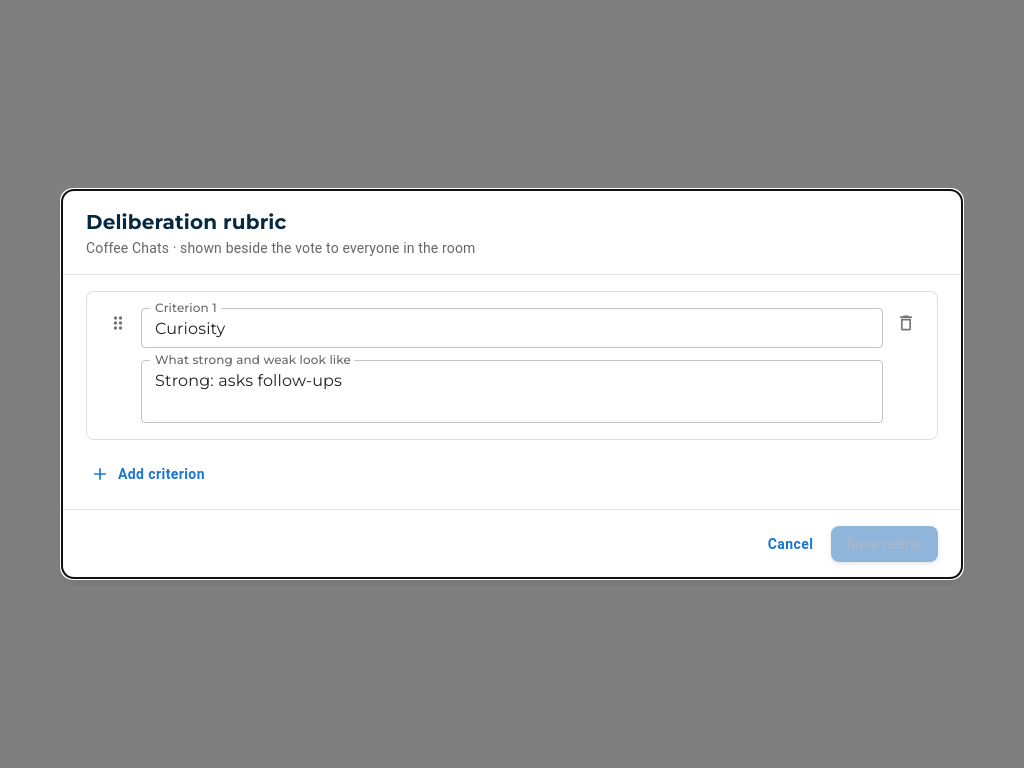
RubricEditorDialog › refuses to save a criterion without a title
Expected: the field showing "Curiosity" is shown, [141,308,883,348]
Click the button "Add criterion" at (149, 474), box [86,456,213,492]
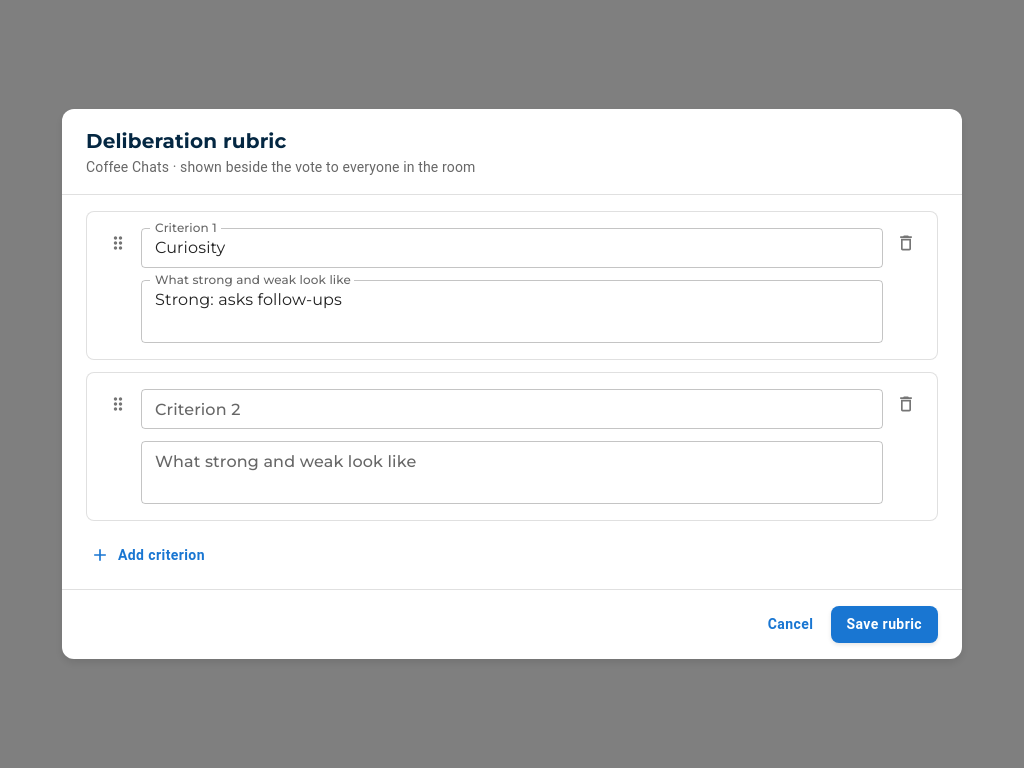
Click the button "Save rubric" at (884, 624), box [831,606,938,642]
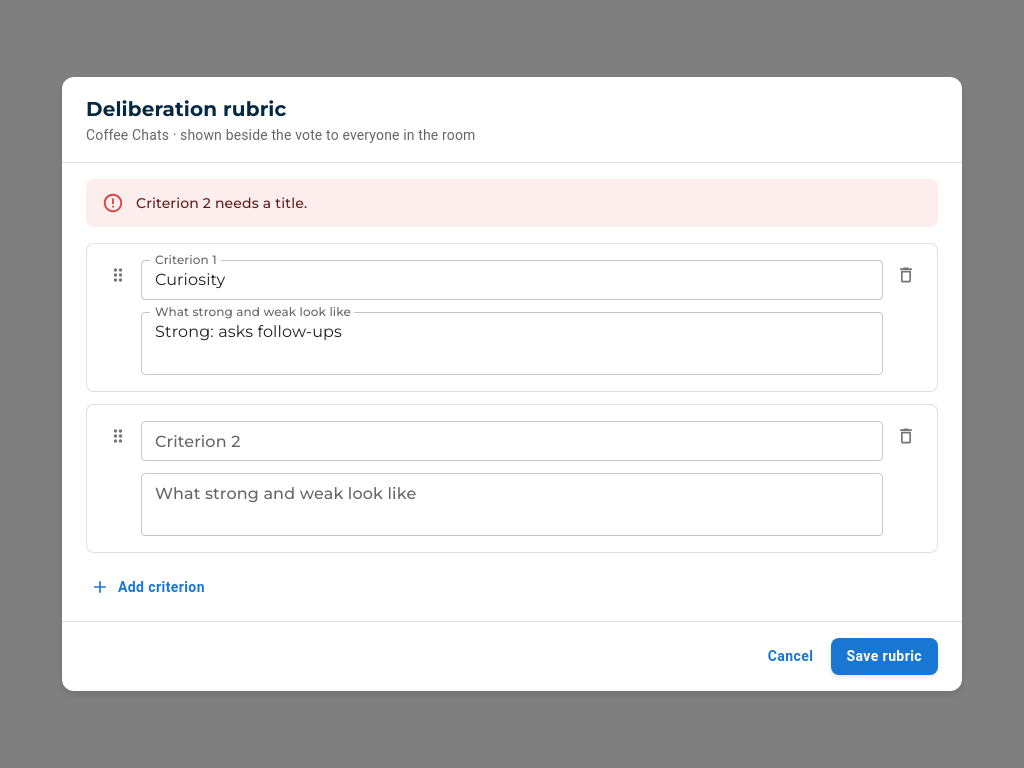
Result: the text "Criterion 2 needs a title." is shown at [136,194,307,212]
